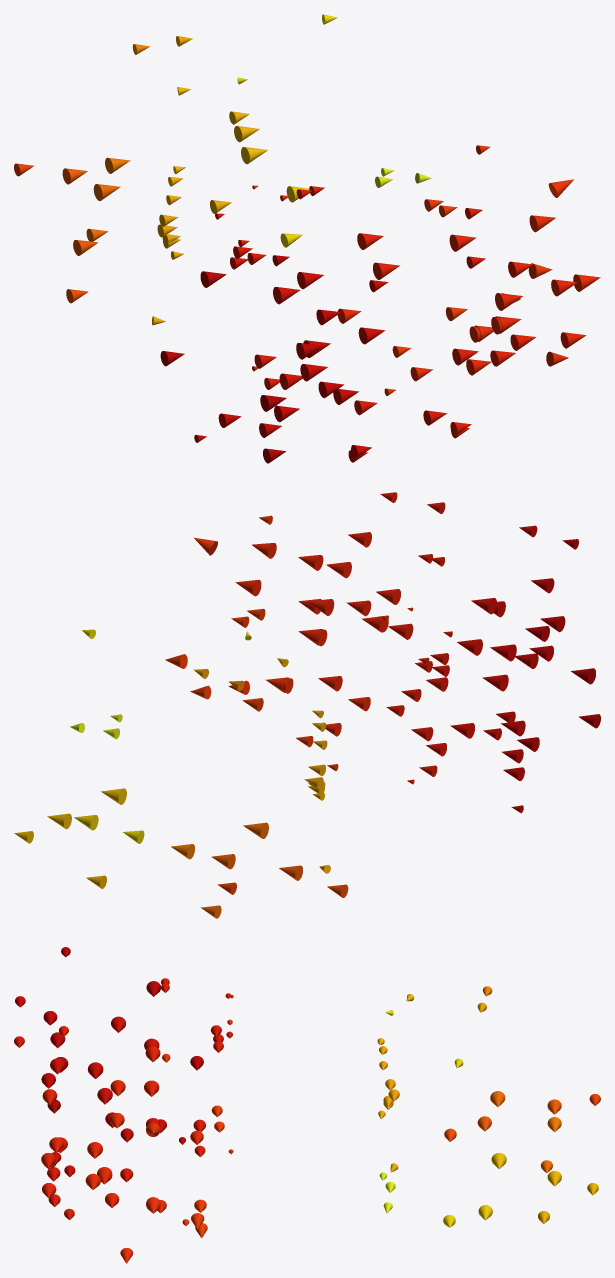
Rendered from LineasCorrienteH2-O2_mh2-6.88_V-1.1.glb.
3 views of the same model, one above another, from view 1: azimuth 30°, elevation 25°; view 2: azimuth 150°, elevation 25°; view 3: azimuth 270°, elevation 25° (orthographic). The views are drawn at different scales.
Size of the model in its own units: 0.000809 by 0.000481 by 0.00123.
Materials: 2 (2 with a texture image).
